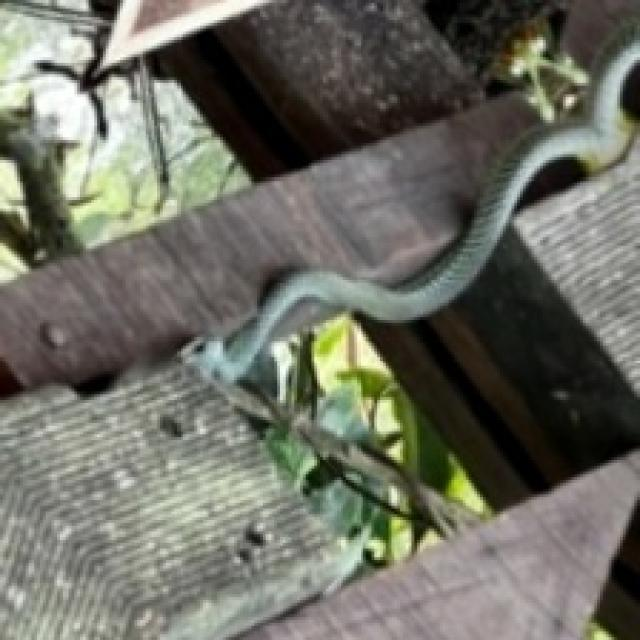paradise tree snake: (200, 23, 637, 377)
